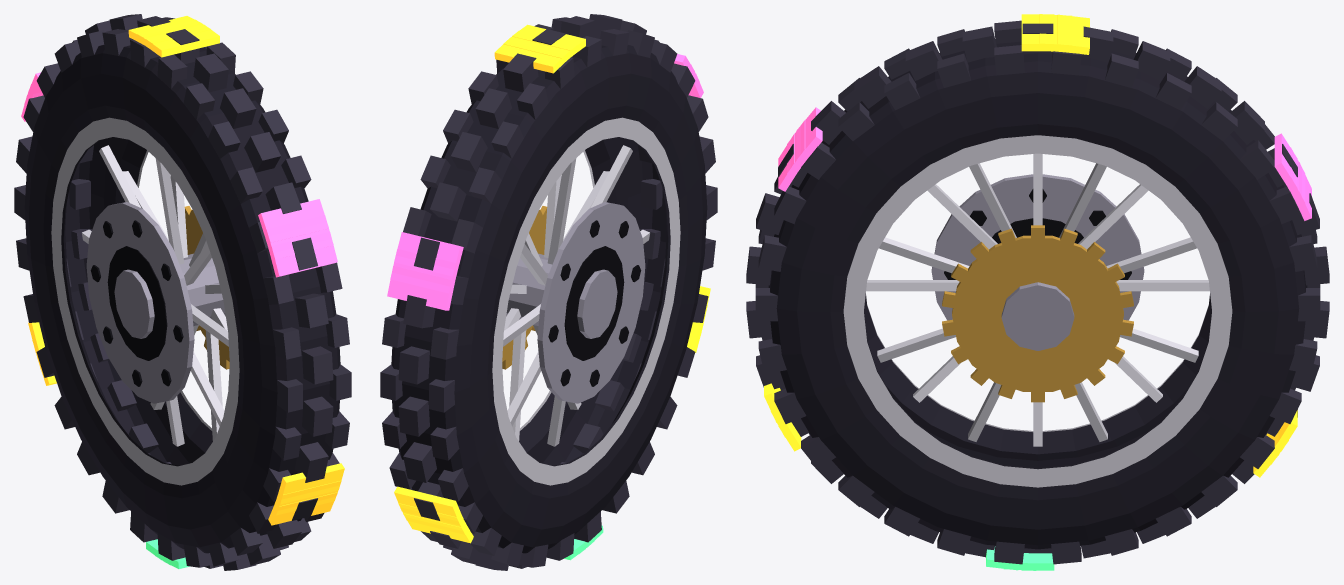
The model's file is tyre-okada.glb.
3 views of the same model, side by side, from view 1: azimuth 30°, elevation 25°; view 2: azimuth 150°, elevation 25°; view 3: azimuth 270°, elevation 25° (orthographic). The views are drawn at different scales.
Visible parts, largest first — view 1: tyre; view 2: tyre; view 3: tyre.
Boxes of the visible parts, <box> form: tyre: <box>14,14,351,570</box>; tyre: <box>380,14,717,570</box>; tyre: <box>746,14,1329,570</box>.
Size of the model in its own units: 0.12 by 0.576 by 0.576.
